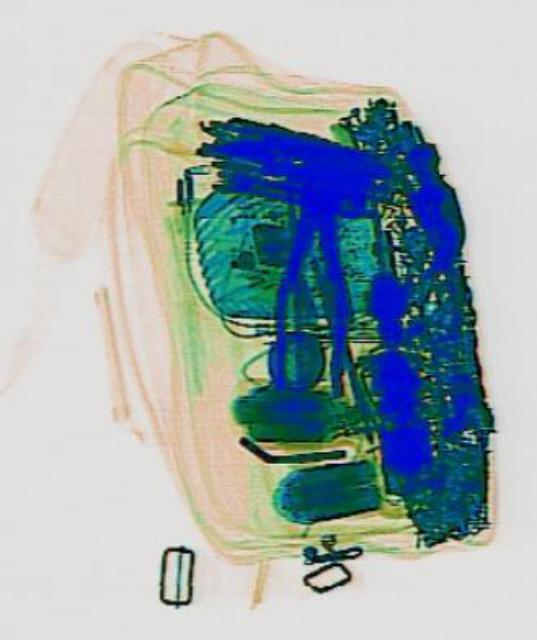Pliers: (264, 162, 357, 394)
